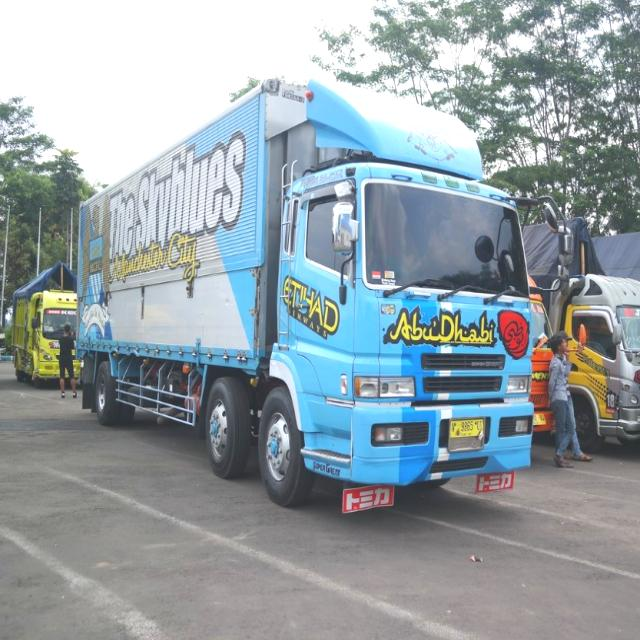truck: (77, 75, 535, 515), (13, 274, 85, 400)
